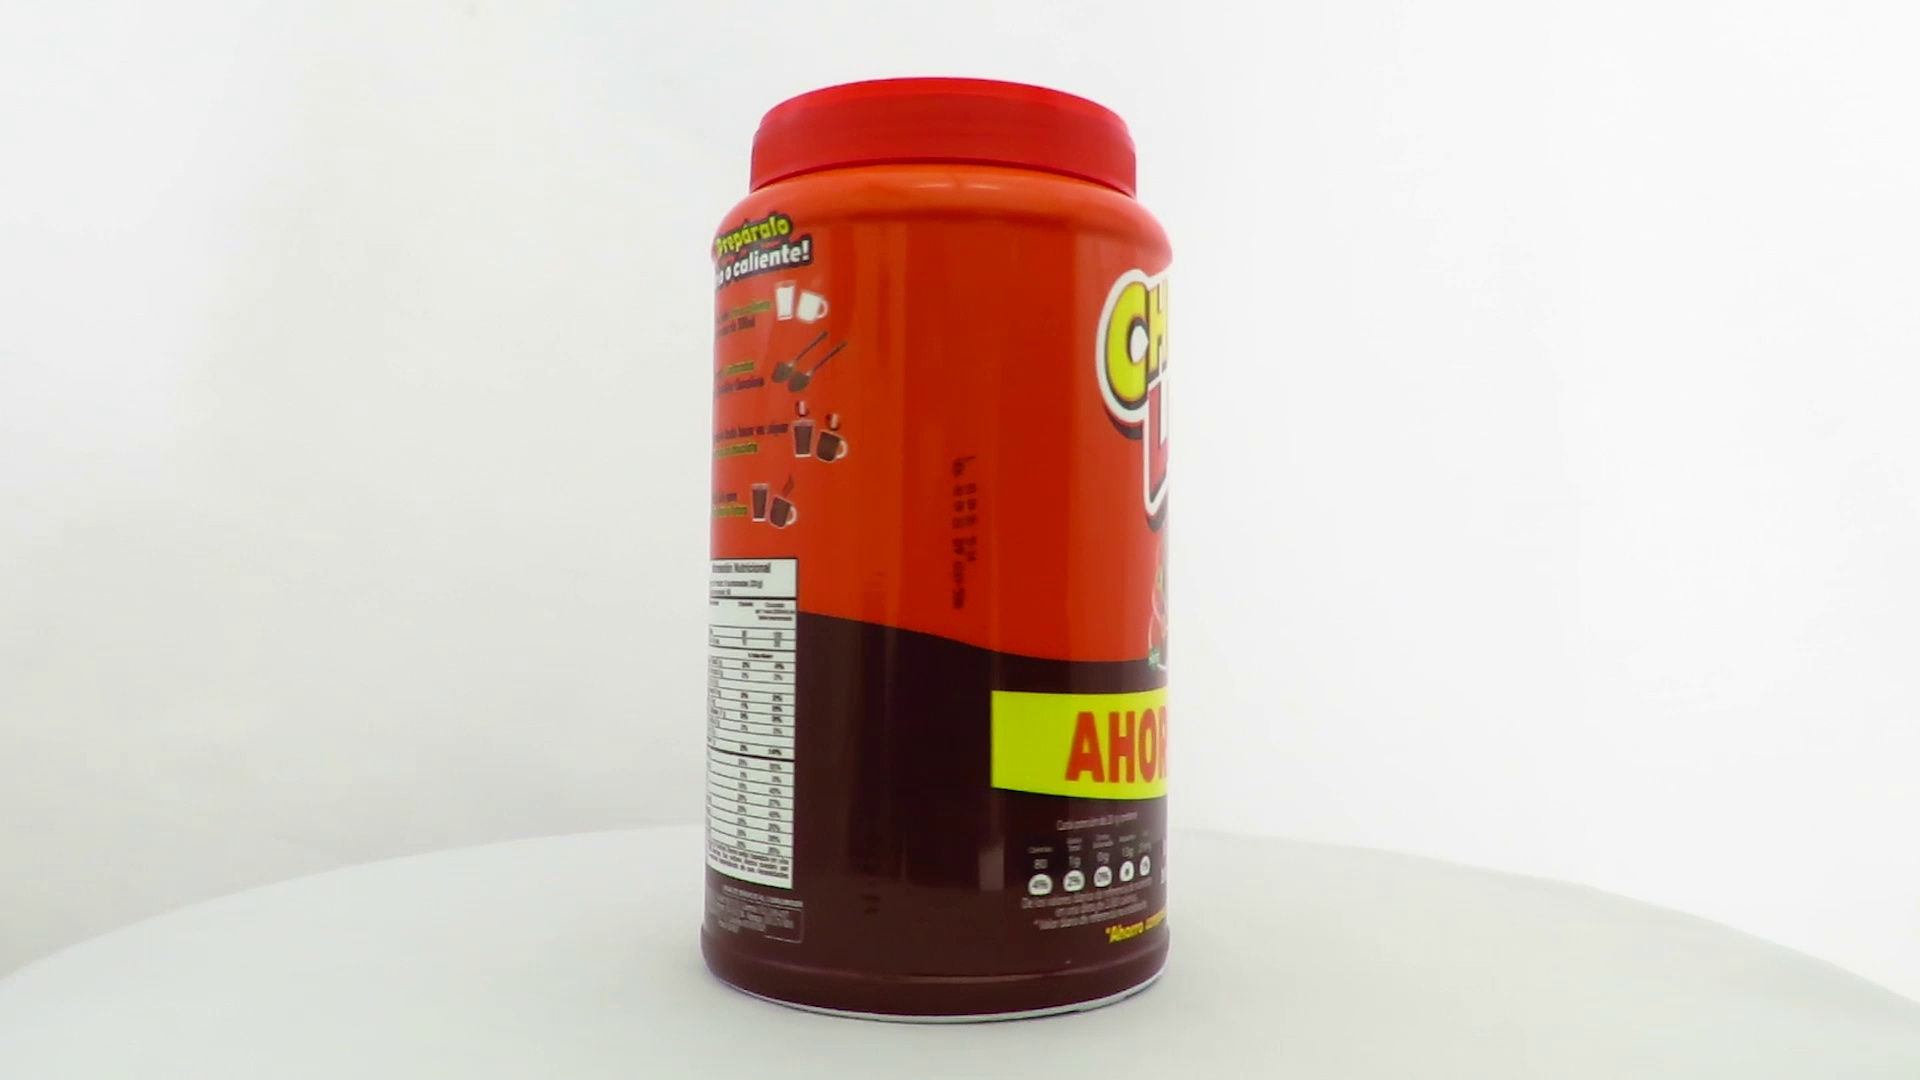COL0170103TRR00100: (695, 73, 1180, 1031)
